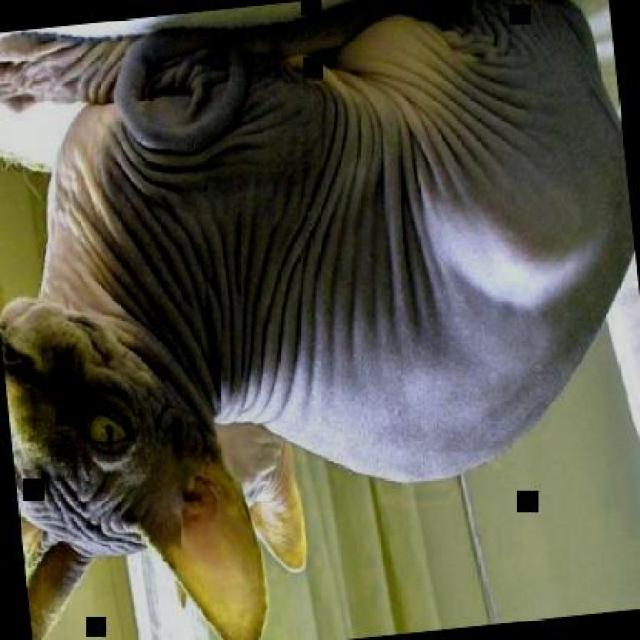cat: (0, 0, 638, 638), (158, 412, 314, 611)
